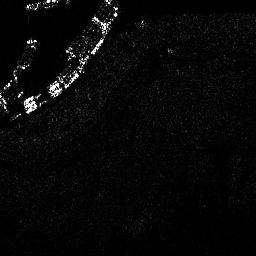ship: (24, 1, 70, 11)
